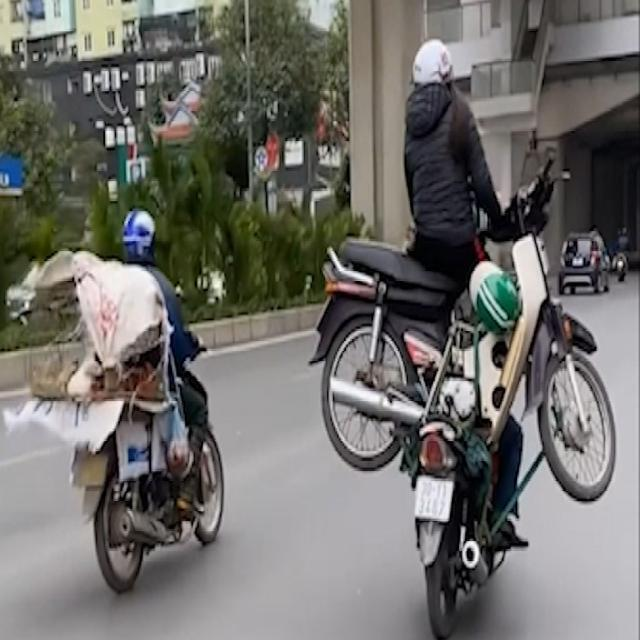motorcycle: (307, 138, 620, 504), (75, 345, 234, 593), (400, 383, 512, 639)
plate: (409, 470, 458, 524)
